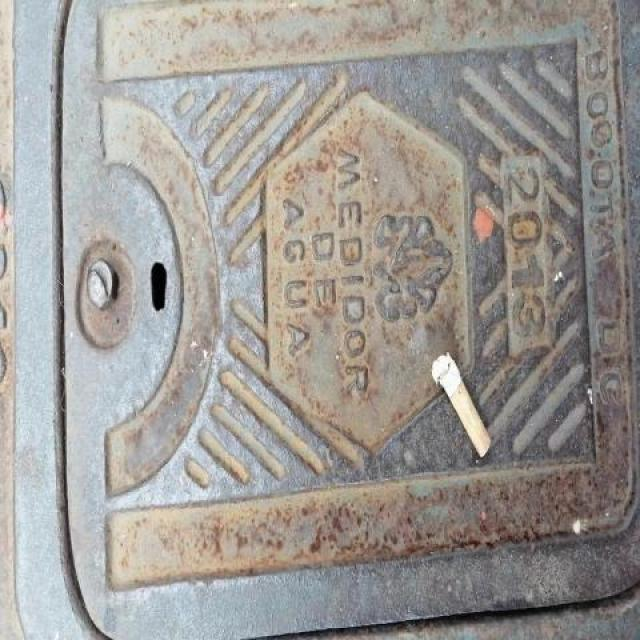non-organic waste: (430, 348, 494, 463)
